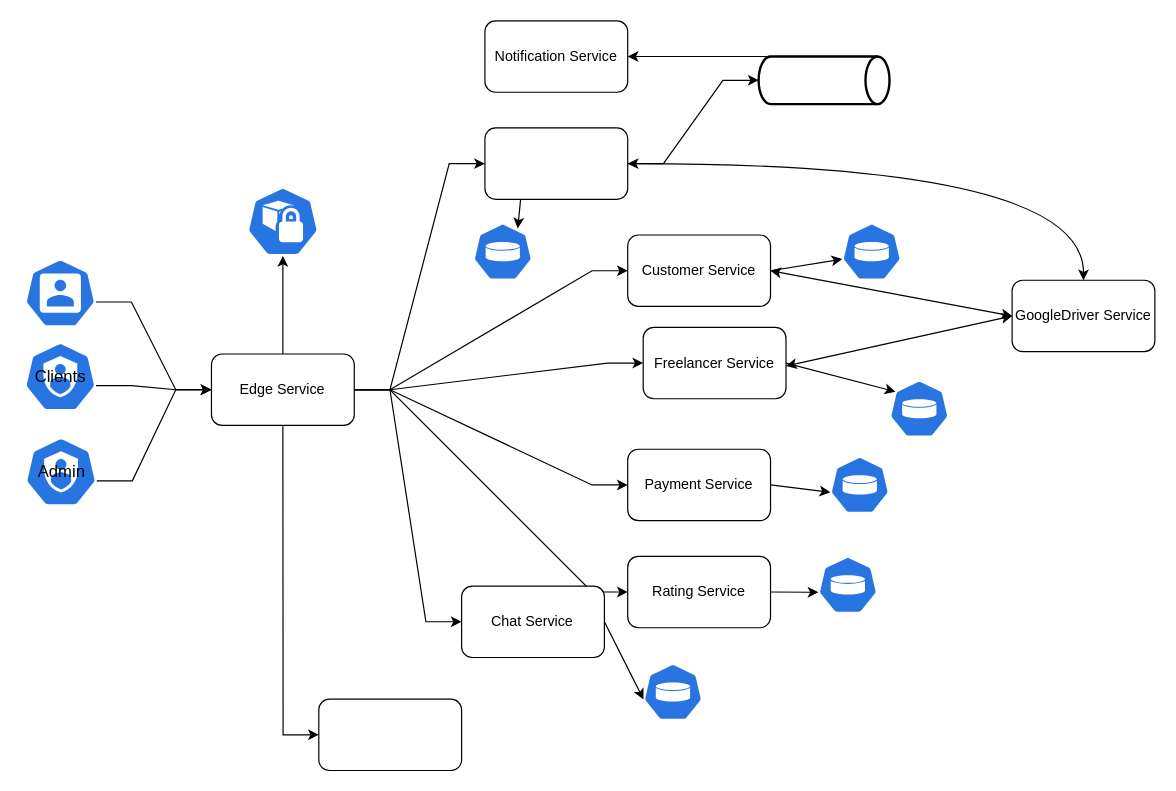
Some shapes in this 1176 by 791 pixel diagram are drawn without their labels. Each missing label, with the centre of its shape:
"Discovery Service" goes at point (390, 734).
"Event broker (kafka)" goes at point (823, 80).
"Freelancer" goes at point (59, 292).
"Job Service" goes at point (556, 163).
"Keycloak Service" goes at point (282, 221).
